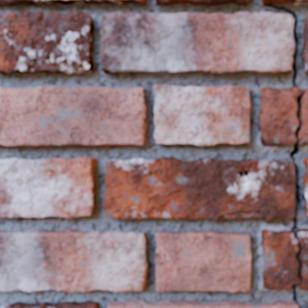brick: (104, 157, 294, 219), (101, 12, 293, 73), (0, 230, 147, 291), (0, 87, 147, 146), (0, 11, 93, 73), (154, 85, 250, 145), (155, 231, 250, 291), (0, 157, 95, 217), (108, 300, 297, 307), (0, 0, 146, 5), (1, 302, 97, 307), (156, 0, 250, 5), (304, 158, 307, 215), (263, 0, 307, 3), (302, 49, 307, 73), (304, 15, 307, 46)
broken_brick: (257, 86, 298, 147), (260, 229, 298, 290), (297, 228, 307, 291), (300, 88, 307, 141)
crack: (263, 2, 307, 305), (214, 210, 261, 220), (262, 241, 265, 269), (100, 26, 109, 35), (303, 45, 307, 52)
